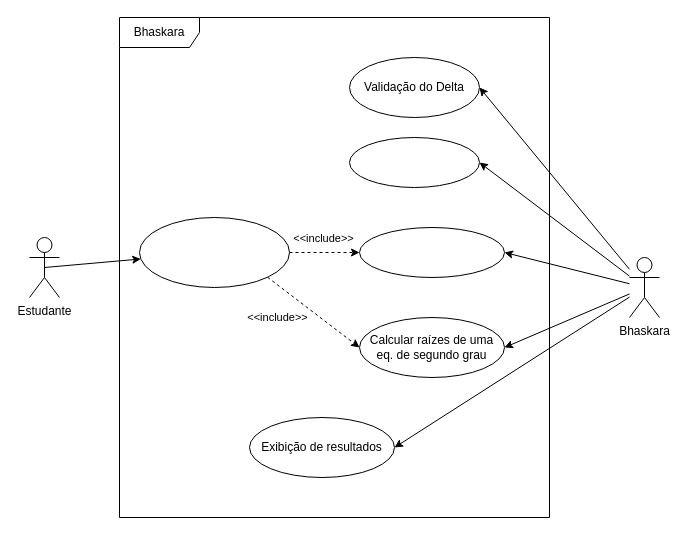
Some shapes in this 687 by 535 pixel diagram are drawn without their labels. The box of each missing label's shape, as (x1, y1, x2, y2) in pixels:
Calcular o Delta: (358, 226, 504, 278)
Informar valores "a", "b" e "c": (138, 216, 290, 288)
Validação de entradas: (348, 136, 480, 188)
